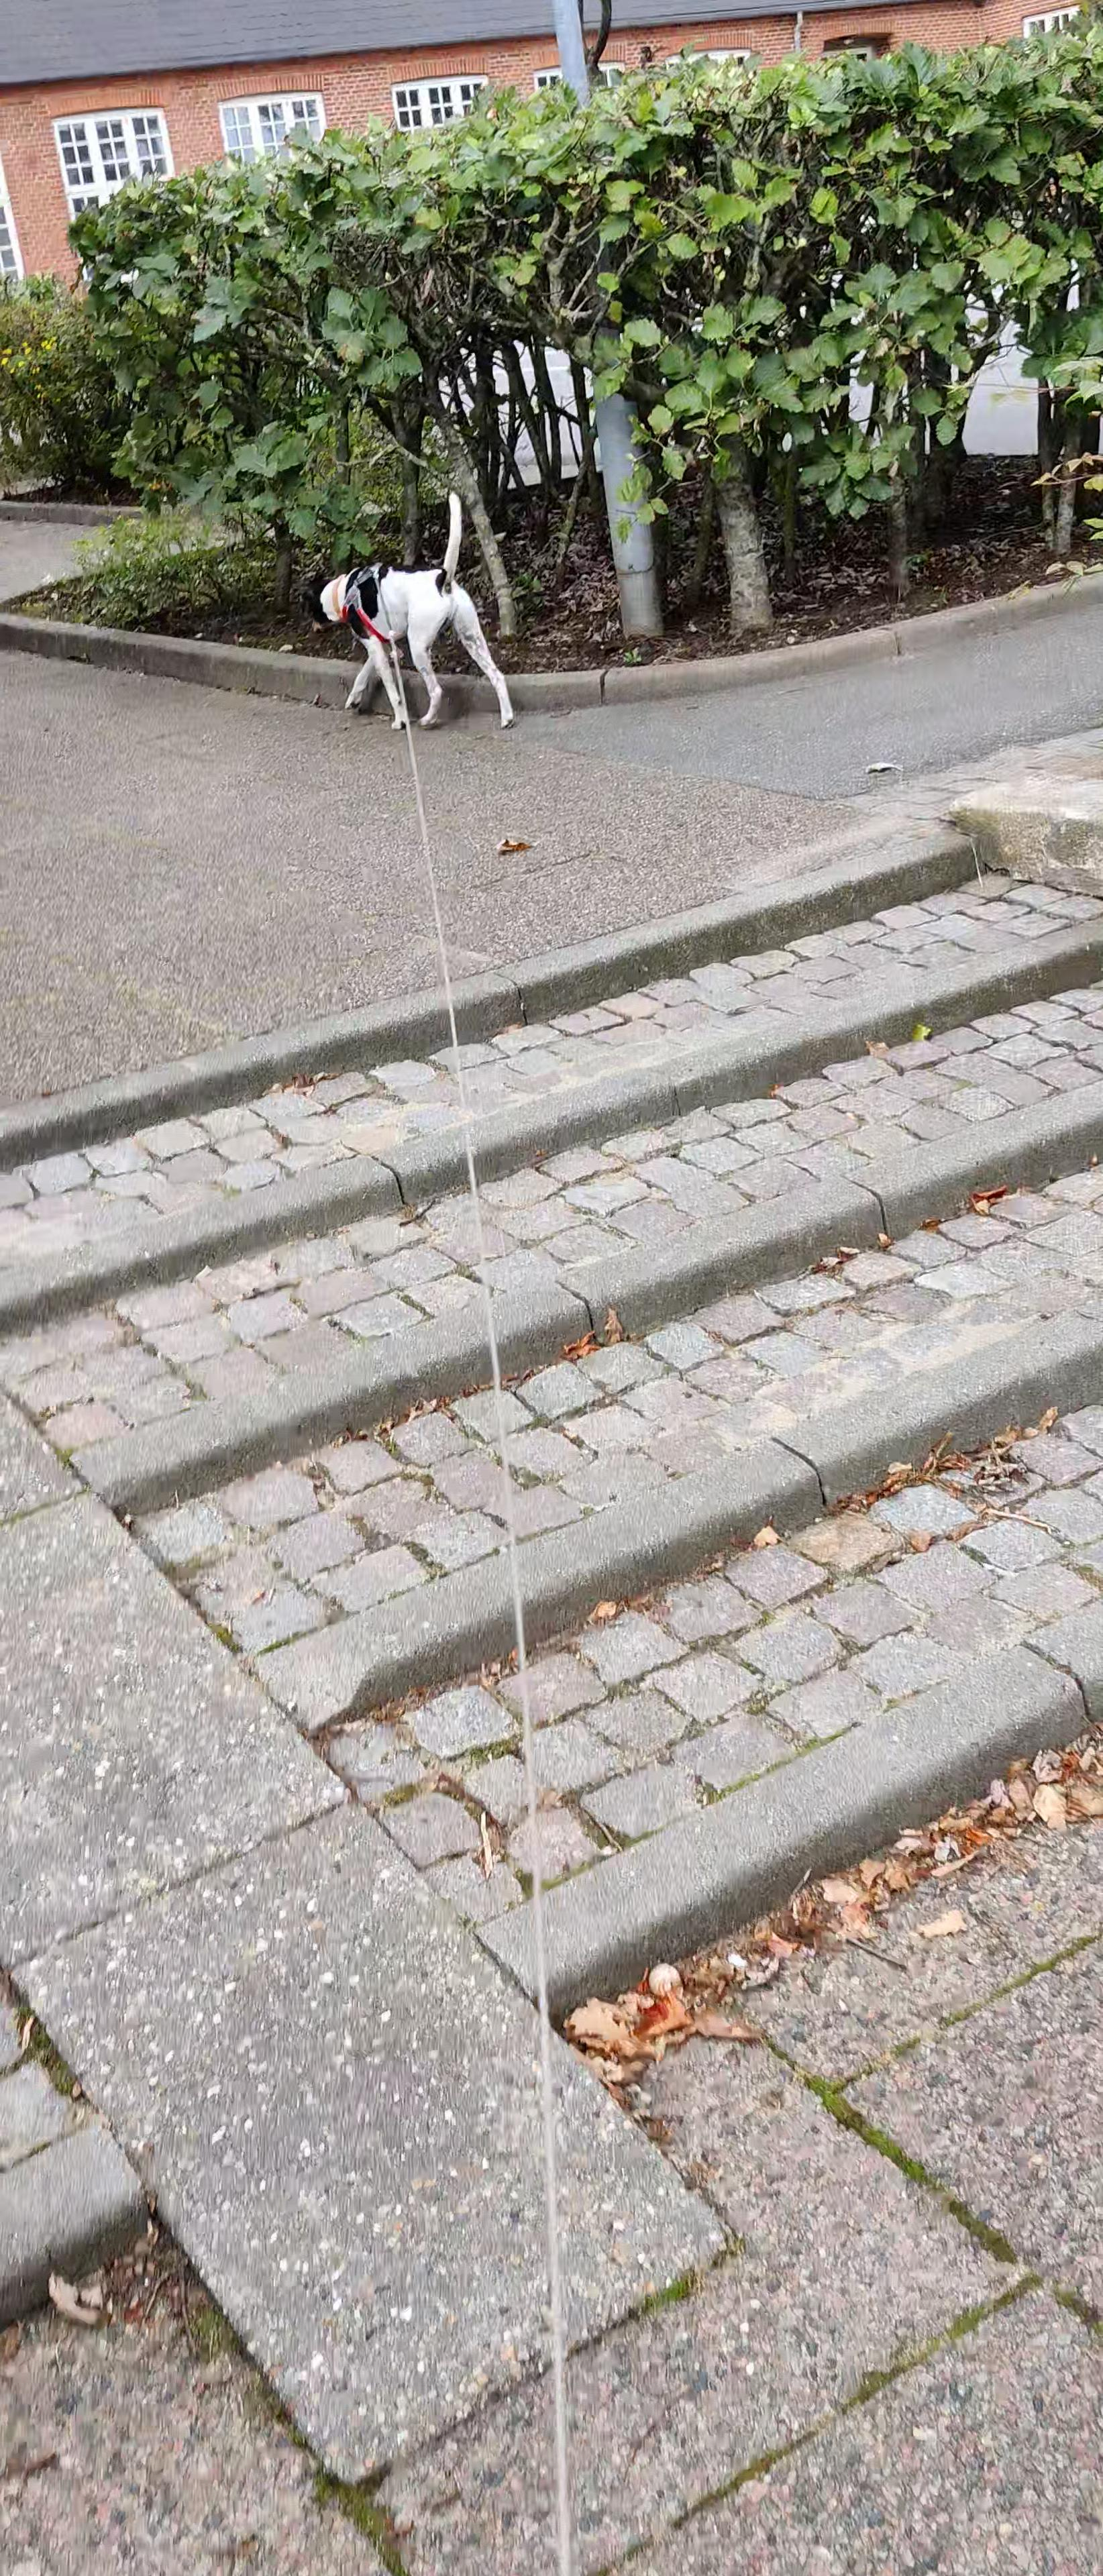Dog: (299, 486, 521, 733)
